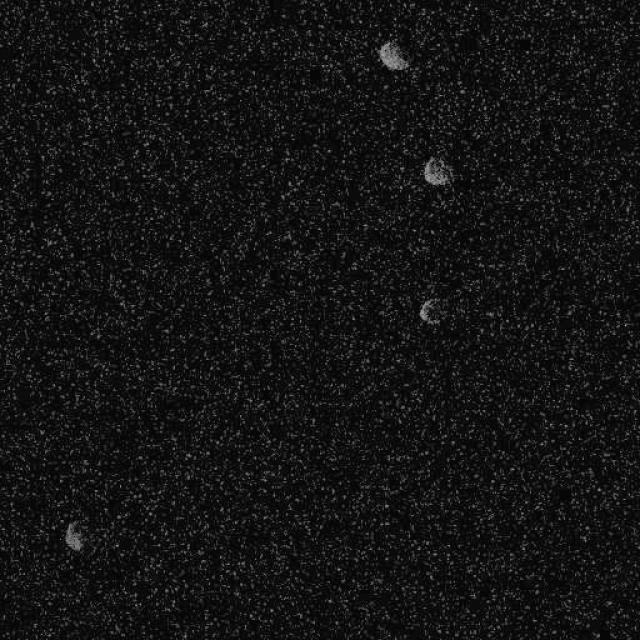D2: (376, 39, 410, 71), (422, 155, 452, 186), (418, 296, 442, 325), (64, 519, 85, 551)
